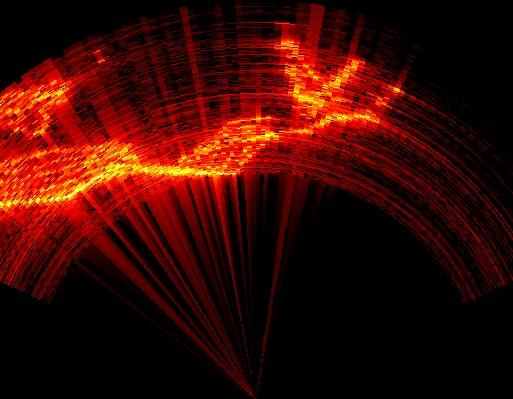shipwreck: (0, 133, 227, 209), (280, 40, 378, 130), (0, 81, 66, 137), (230, 128, 284, 161)
